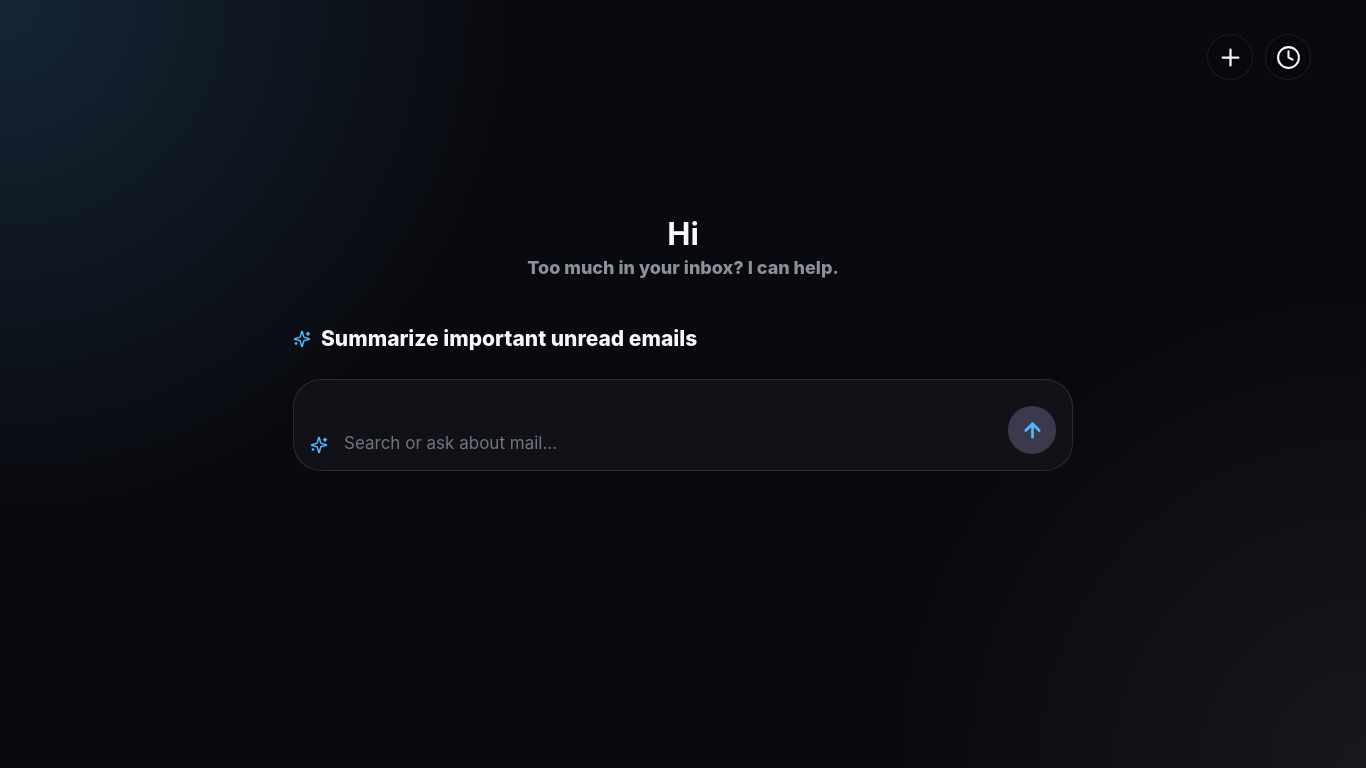
AiScreen › replaces paste-email assistant headers when matching citations exist
Type "DTS206 final exam schedule" into the field with placeholder "Search or ask about mail...".
click(670, 443); type("DTS206 final exam schedule")  # box [342,432,998,454]
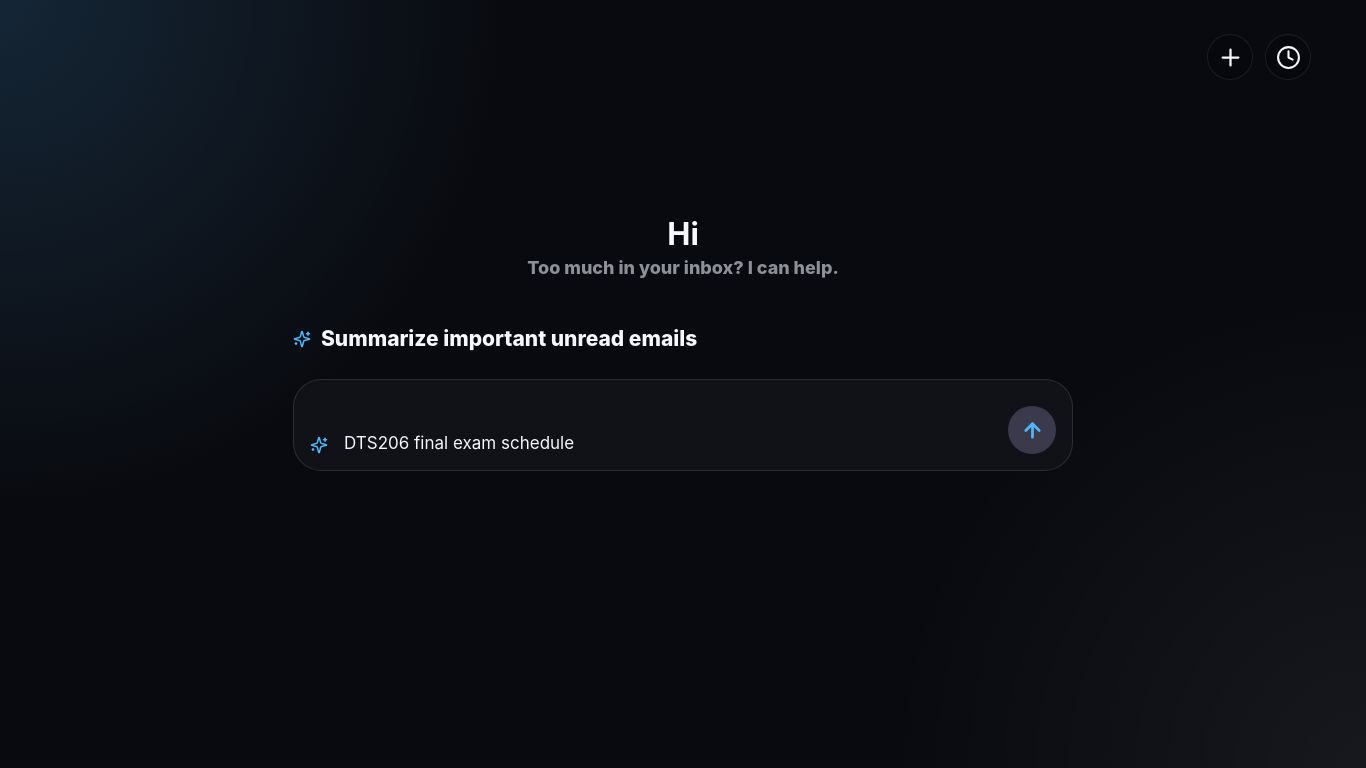
Click the button named "Send".
click(1032, 430)  # box [1008,406,1056,454]
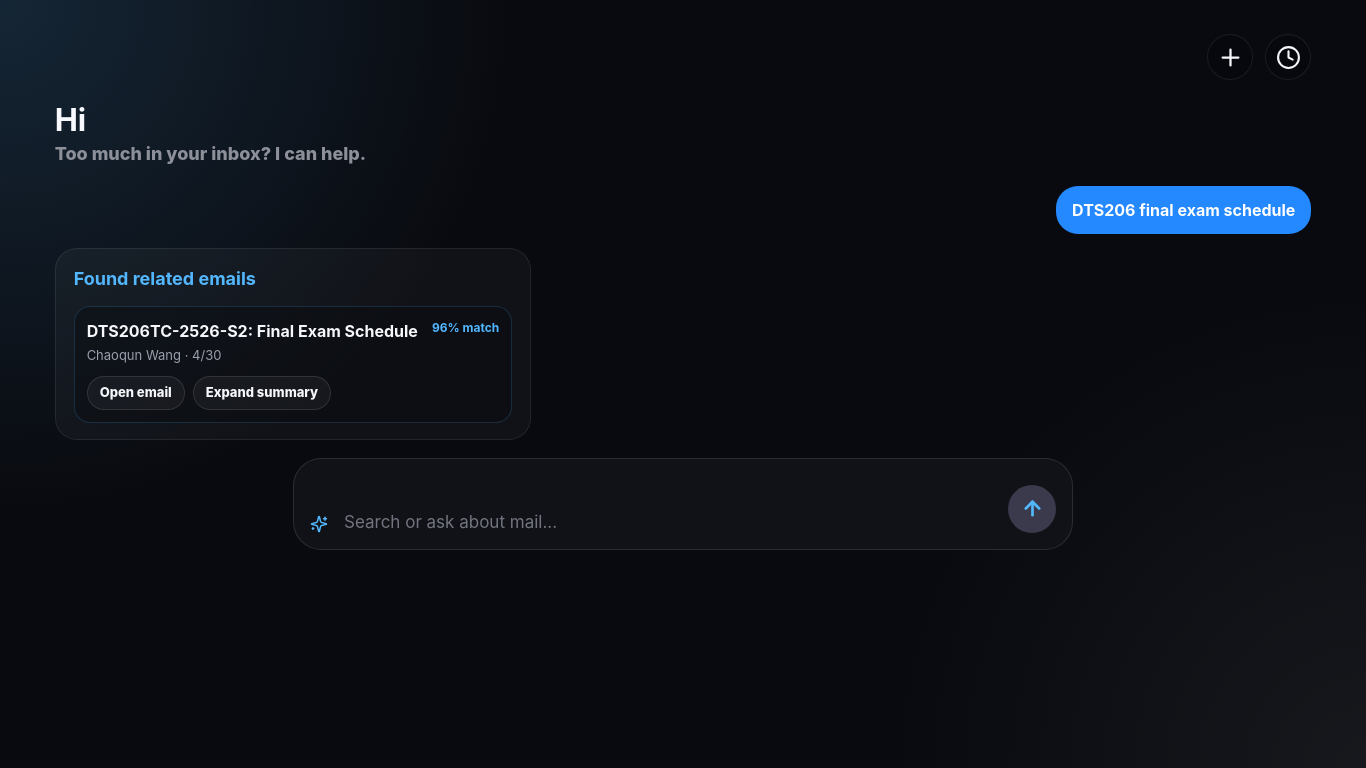
Expected: the heading "Found related emails" is shown, [74,268,256,289]
Expected: the heading "DTS206TC-2526-S2: Final Exam Schedule" is shown, [87,319,418,343]
Expected: the button "Expand summary" is shown, [193,376,331,410]
